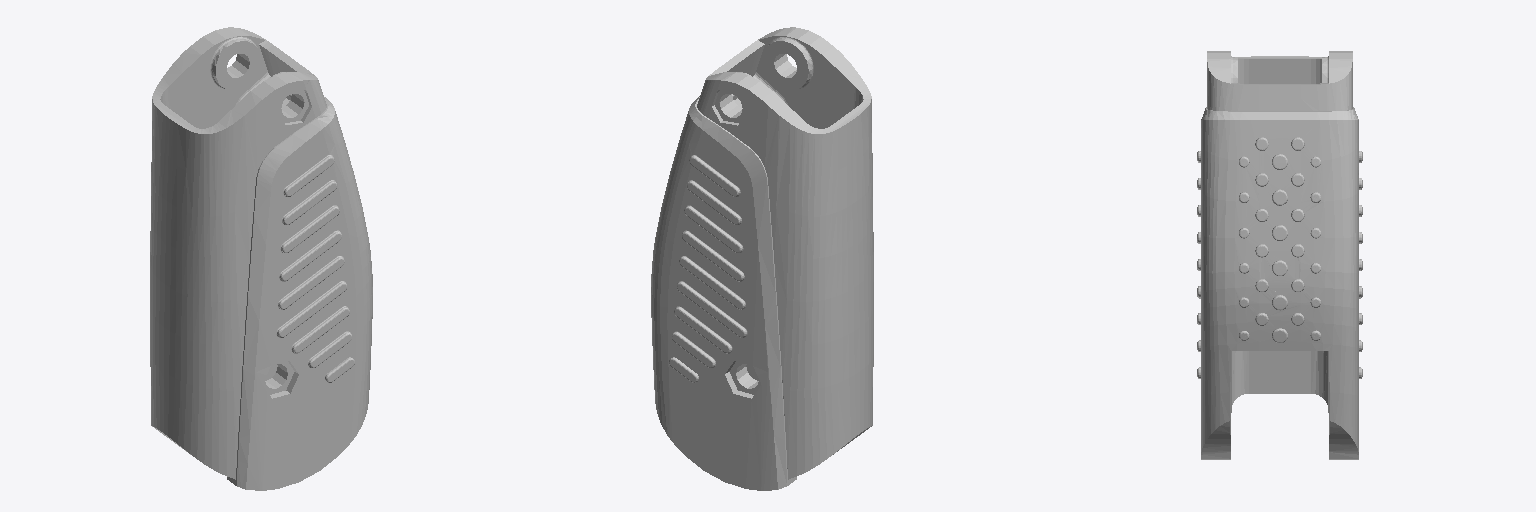
The model's file is left_little_1_visuals.obj.
3 views of the same model, side by side, from view 1: azimuth 30°, elevation 25°; view 2: azimuth 150°, elevation 25°; view 3: azimuth 270°, elevation 25° (orthographic).
Size of the model in its own units: 0.0238 by 0.0493 by 0.0184.